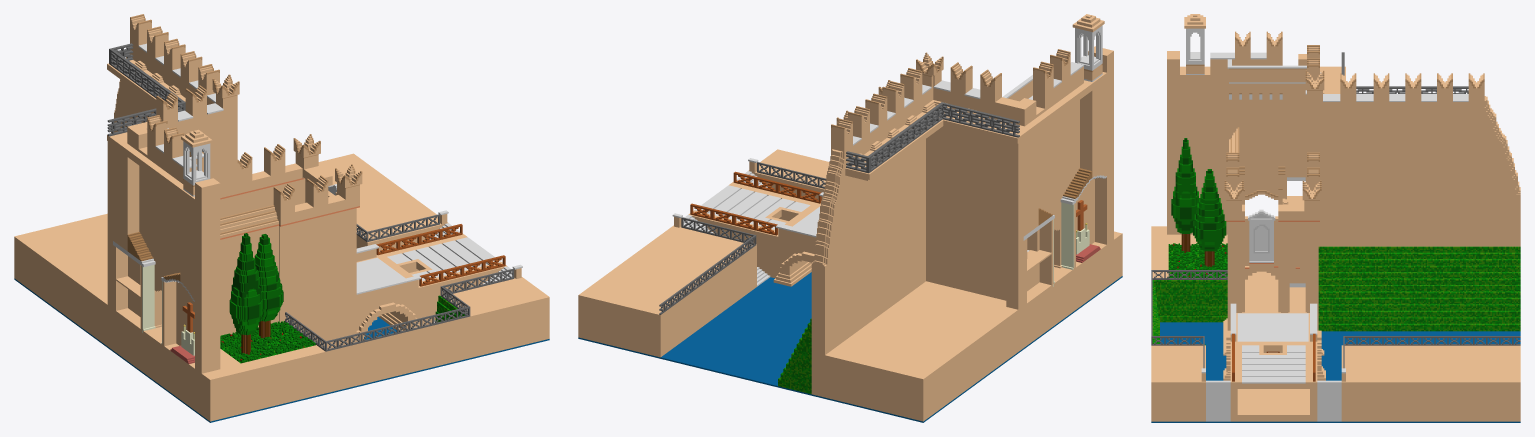
File: castelloVillafranca-6.obj
3 renders of one model, left to right at view 1: azimuth 30°, elevation 25°; view 2: azimuth 150°, elevation 25°; view 3: azimuth 270°, elevation 25°, orthographic. The views are drawn at different scales.
Bounding box in the file's own units: 25.6 × 19.6 × 25.6.
Materials: 1 (1 with a texture image).
